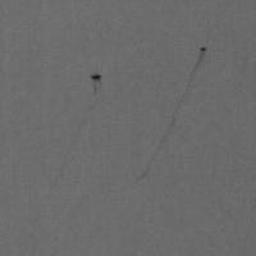Inclusion: (136, 44, 209, 180), (90, 73, 104, 96)
